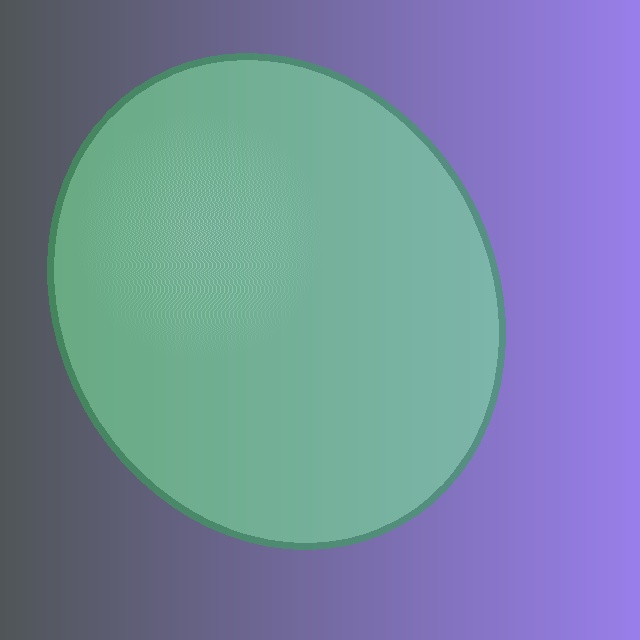lens: (50, 57, 502, 545)
